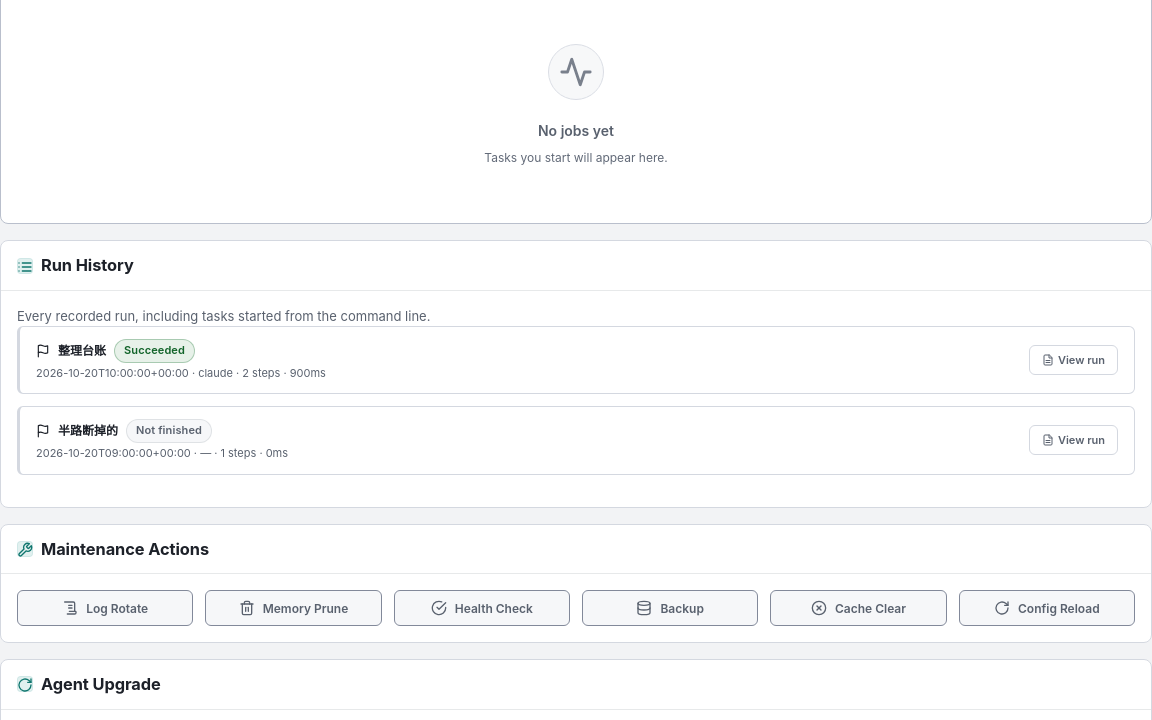
Scenario: ControlPanel.vue › lists recorded runs and opens a run timeline from the list
(page scrolled)
Expected: the number of elements with class "row-item" is 2, [17,326,1135,394]; [17,406,1135,474]
Expected: the element with class "row-item" shows "整理台账", [58,343,106,358]
Click the button "View run" in the row of "Succeeded".
click(1073, 360)  # box [1029,345,1118,375]
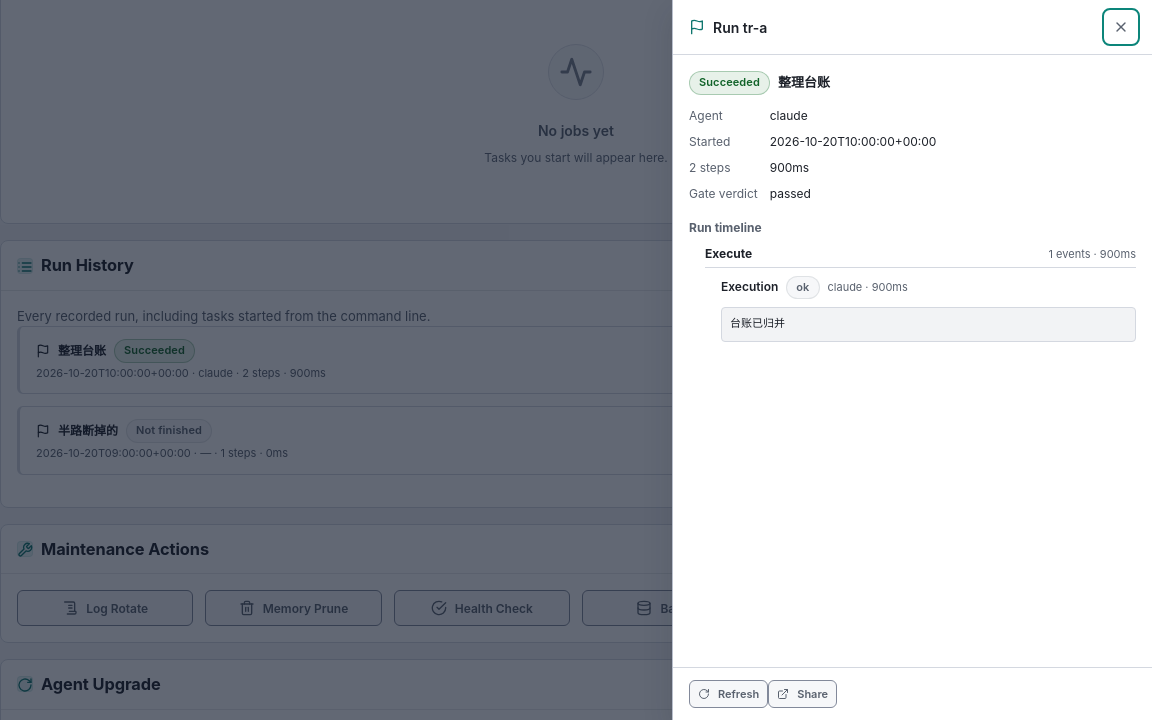
Result: the element with class "run-timeline" is shown at [689,245,1136,342]
Result: the element with class "run-timeline" shows "台账已归并" at [730,317,785,330]
